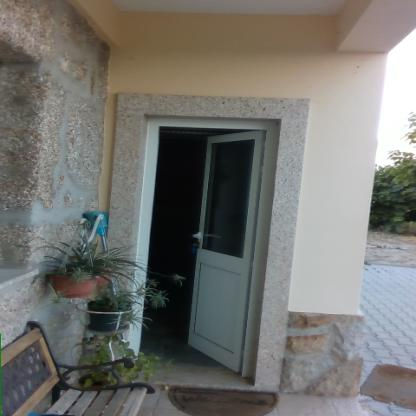semi: (117, 109, 287, 385)
